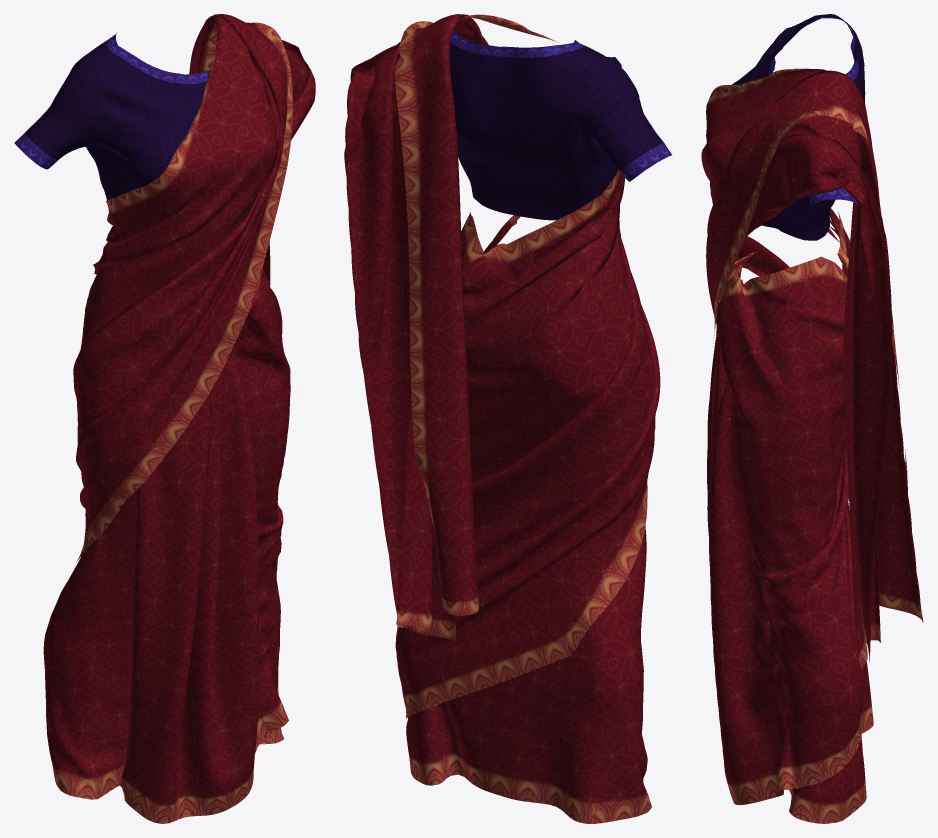
3 views of the same model, side by side, from view 1: azimuth 30°, elevation 25°; view 2: azimuth 150°, elevation 25°; view 3: azimuth 270°, elevation 25° (orthographic). The views are drawn at different scales.
Parts seen in each view (by area): view 1: Saree, Blouse; view 2: Saree, Blouse; view 3: Saree, Blouse.
Boxes of the visible parts, x1,y1,x2,y2 form: Saree: (43,14,315,823); Blouse: (14,33,209,200); Saree: (344,14,660,823); Blouse: (449,30,671,220); Saree: (701,68,923,823); Blouse: (731,14,865,240).
Bounding box in the file's own units: 0.6579 × 1.63 × 0.4329.
Materials: 1 (1 with a texture image).
